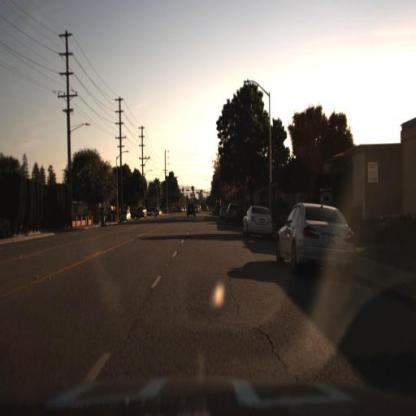car: (274, 199, 357, 281), (244, 202, 275, 244), (225, 201, 243, 227), (117, 208, 133, 226), (120, 208, 135, 227), (186, 197, 196, 215)
